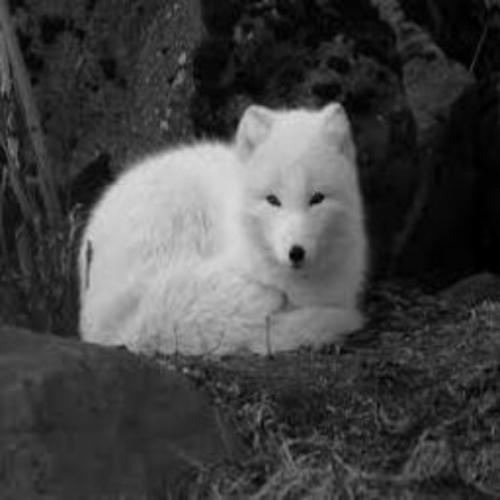arctic_fox-endangered: (76, 107, 368, 353)
